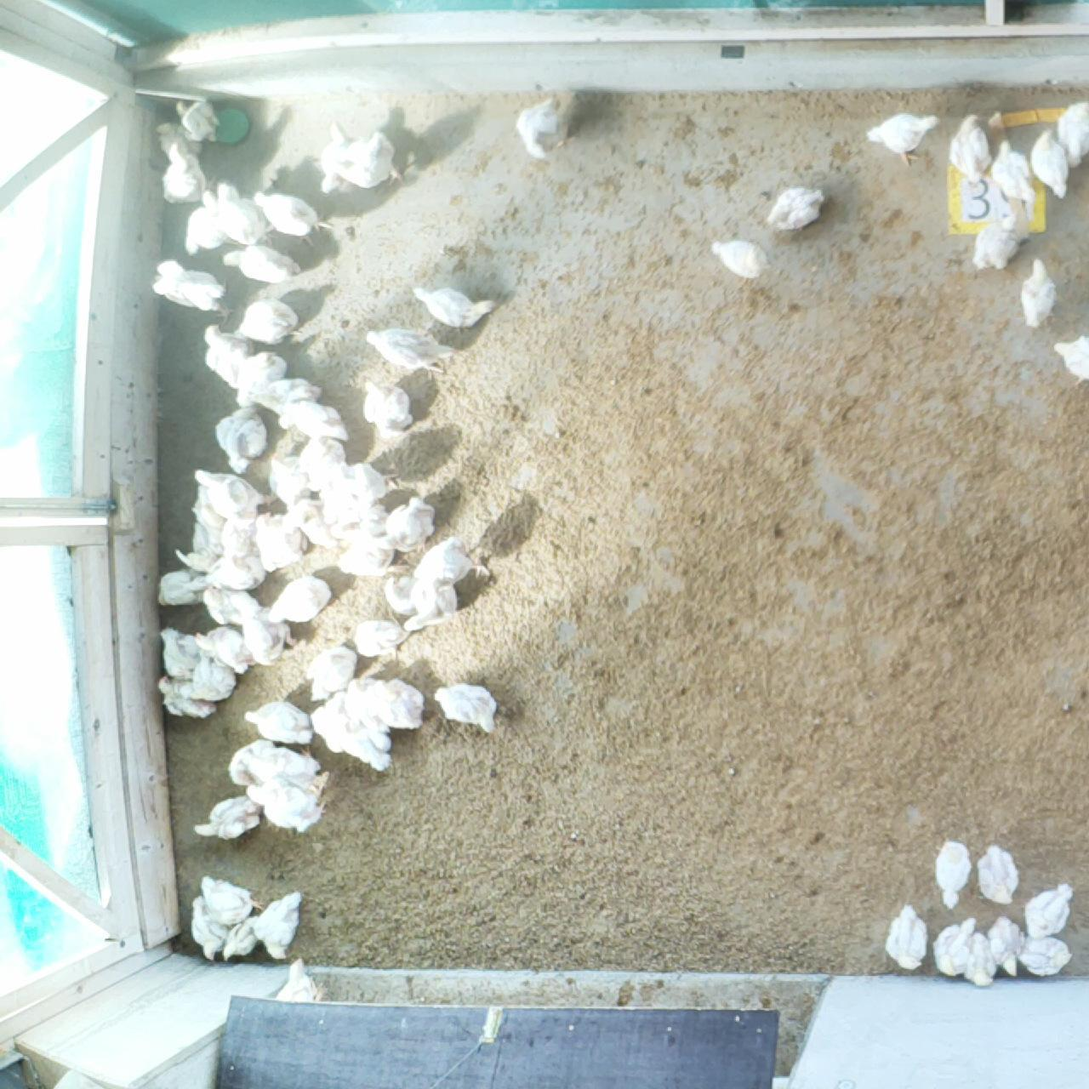chicken: (249, 185, 339, 249), (362, 326, 460, 381), (225, 737, 323, 790), (192, 463, 278, 523), (329, 127, 407, 191), (244, 779, 328, 837), (863, 107, 942, 166), (409, 282, 498, 333), (213, 175, 275, 248), (150, 258, 229, 315), (212, 402, 271, 477), (513, 90, 573, 162), (410, 534, 492, 586), (230, 292, 306, 347), (373, 494, 440, 556), (253, 885, 305, 964), (344, 674, 396, 753), (239, 603, 299, 671), (188, 791, 264, 844), (198, 870, 266, 928), (946, 108, 994, 190), (432, 680, 501, 737), (241, 698, 316, 750), (358, 374, 416, 440), (199, 321, 253, 391), (190, 626, 261, 679), (250, 509, 307, 574), (968, 209, 1023, 276), (265, 573, 335, 625), (703, 231, 774, 282), (276, 398, 353, 445), (1027, 125, 1074, 202), (882, 900, 931, 973), (234, 346, 289, 410), (1015, 255, 1061, 331), (369, 676, 430, 733), (159, 139, 210, 207), (988, 136, 1038, 205), (219, 242, 305, 282), (1023, 878, 1076, 942), (184, 185, 231, 257), (306, 688, 355, 756), (932, 837, 975, 914), (401, 577, 460, 633), (305, 642, 360, 702), (931, 912, 979, 980), (154, 673, 220, 722), (179, 650, 240, 702), (767, 182, 828, 234), (246, 376, 324, 416), (271, 955, 332, 1006), (316, 114, 353, 198), (975, 841, 1021, 908), (281, 496, 337, 551), (295, 432, 346, 492), (336, 460, 402, 506), (172, 520, 227, 575), (350, 617, 415, 663), (187, 892, 229, 963), (200, 581, 263, 627), (1015, 932, 1075, 980), (157, 621, 204, 681), (1054, 95, 1089, 174), (338, 727, 395, 775), (171, 94, 224, 145), (984, 912, 1025, 977), (325, 501, 389, 542), (264, 448, 310, 503), (1047, 333, 1089, 390), (208, 552, 265, 593), (153, 567, 208, 609), (337, 534, 392, 575), (963, 930, 1001, 988), (150, 120, 208, 158), (220, 914, 261, 965), (218, 512, 257, 565), (382, 572, 425, 618)
